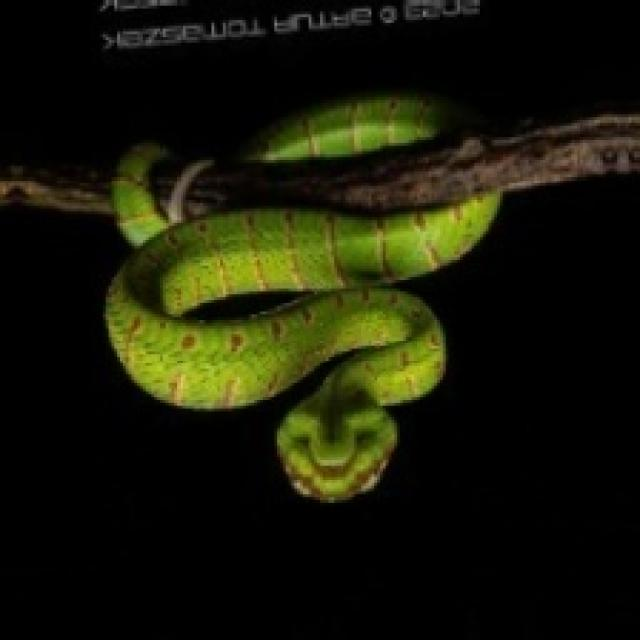north ph temple pitviper: (106, 146, 497, 500), (246, 94, 449, 169)
